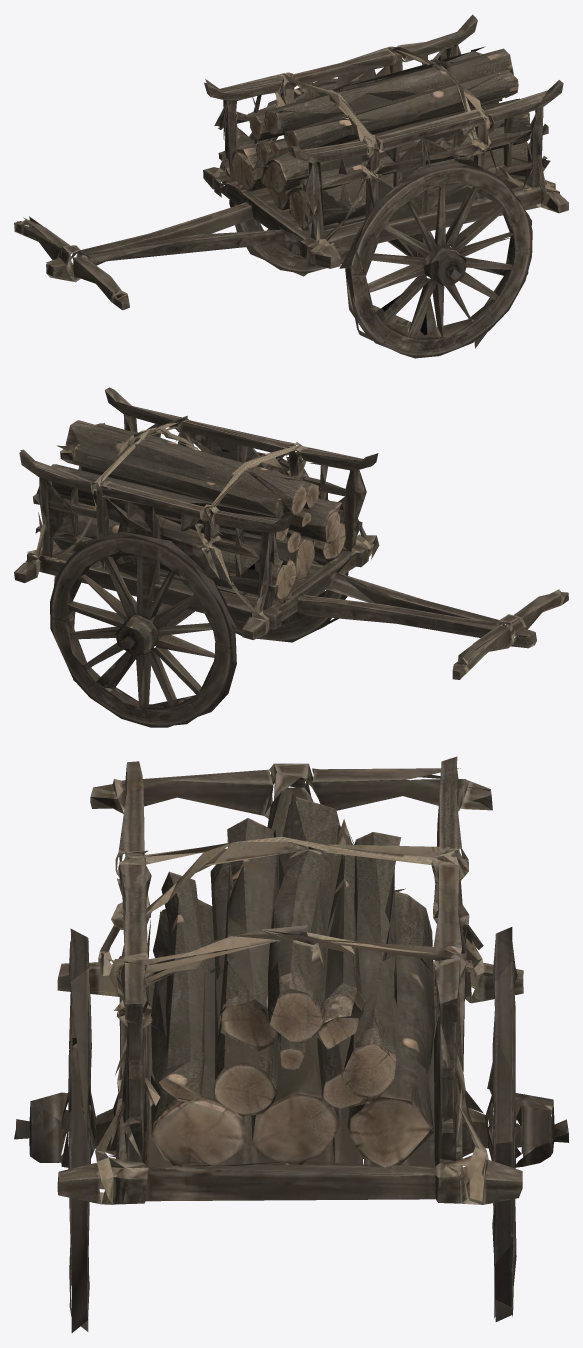
The model's file is oxcart.glb.
3 views of the same model, one above another, from view 1: azimuth 30°, elevation 25°; view 2: azimuth 150°, elevation 25°; view 3: azimuth 270°, elevation 25° (orthographic). The views are drawn at different scales.
Visible parts, largest first — view 1: output_unwrapped; view 2: output_unwrapped; view 3: output_unwrapped.
Part boxes in pixels (x1,y1,x2,y2): output_unwrapped: [14, 14, 568, 358]; output_unwrapped: [14, 387, 568, 727]; output_unwrapped: [14, 756, 568, 1332].
Size of the model in its own units: 3.8 by 1.83 by 2.11.
1 material, 1 textured.
